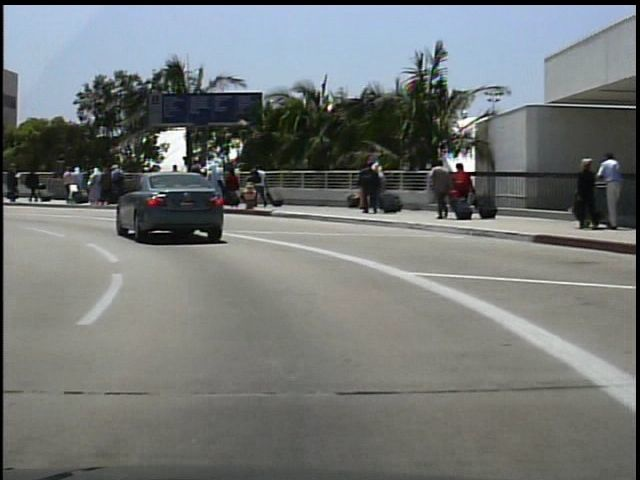person: (593, 148, 626, 230), (569, 155, 600, 232), (427, 158, 453, 224), (355, 158, 381, 217), (449, 161, 473, 218), (5, 157, 24, 202), (255, 160, 271, 208), (24, 165, 42, 203), (10, 165, 27, 203)
